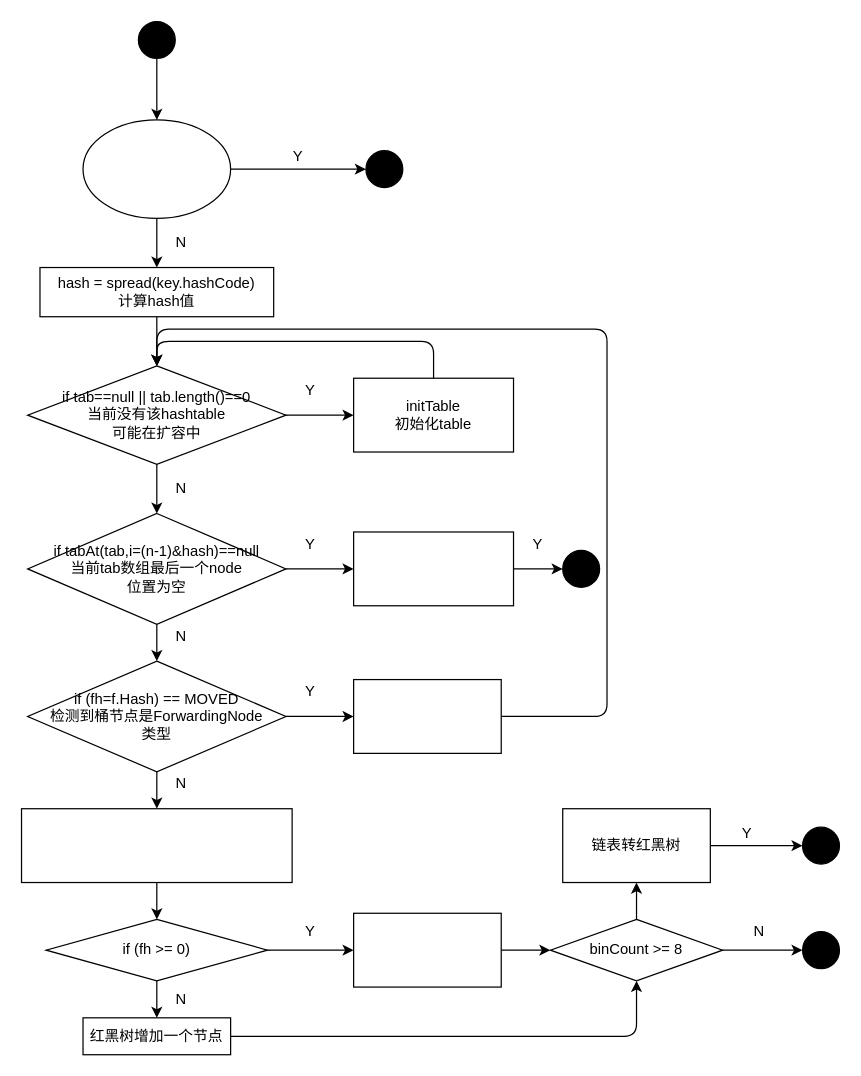
The diagram is 861 pixels wide and 1076 high, and some of its shapes have lost their labels. Here are the shapes that lost their labels. From the top down, the box of each, then its label:
(82, 119, 231, 218): if key==null && value==null
(352, 531, 514, 606): 直接在i位置增加node
(352, 678, 501, 753): 协助扩容
(20, 807, 292, 883): synchronized(f) 该桶节点是普通节点，锁住头节点
(352, 912, 501, 987): 在该链表尾部添加一个节点
